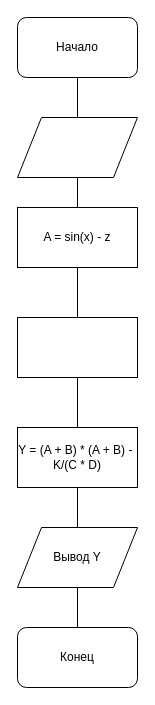
Image size: 155x705. Some labels were removed from this diagram. The centre of each missing label's shape, as x and y in pixels:
B = abs(p - x): pixel 77 347
Ввод K, C, D, p, x, z;: pixel 77 147
